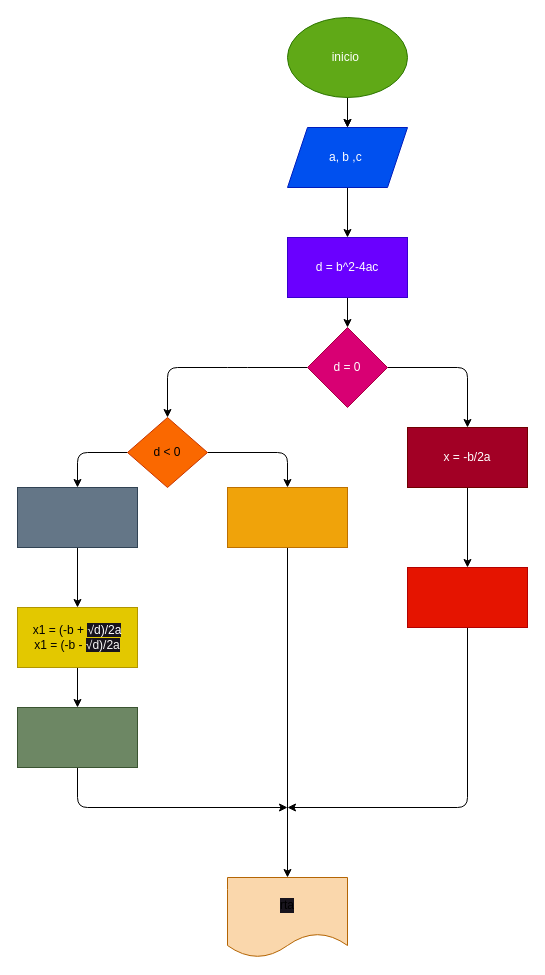
This 545x975 diagram has some shape labels left out. Each missing label, with the centre of its shape:
d >0: (x=77, y=517)
rta = " las raices son : " x1 && x2: (x=77, y=737)
rta = "las dos raices son: " x: (x=467, y=597)
rta = "las raices son imaginarias": (x=287, y=517)
